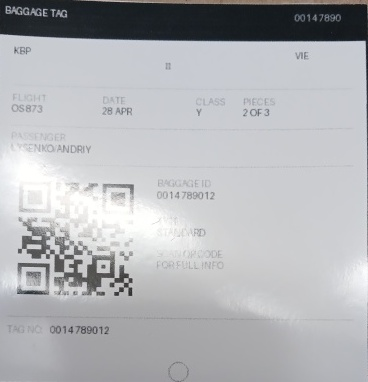LPN_bottom: (45, 319, 112, 338)
LPN_right: (151, 189, 221, 203)
